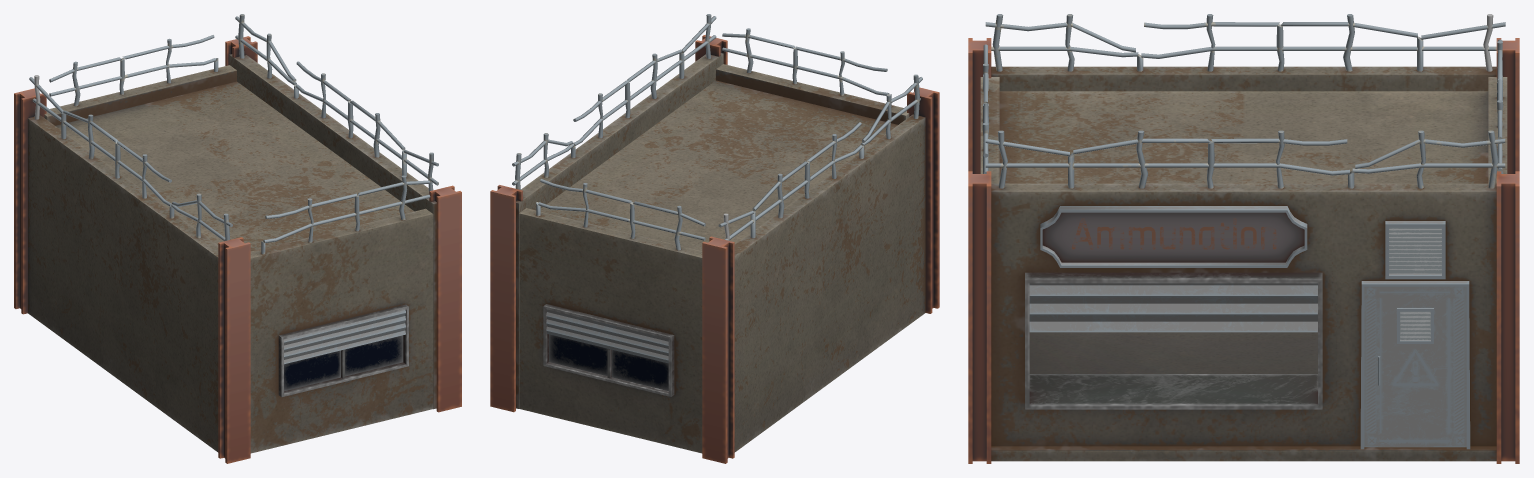
File: GunShop.fbx
3 renders of one model, left to right at view 1: azimuth 30°, elevation 25°; view 2: azimuth 150°, elevation 25°; view 3: azimuth 270°, elevation 25°, orthographic. The views are drawn at different scales.
Visible parts, largest first — view 1: Cube.010; view 2: Cube.010; view 3: Cube.010.
Boxes of the visible parts, x1=… form: Cube.010: x1=14, y1=14, x2=461, y2=463; Cube.010: x1=490, y1=14, x2=939, y2=463; Cube.010: x1=968, y1=14, x2=1519, y2=463.
Bounding box in the file's own units: 3.91 × 3.95 × 6.16.
